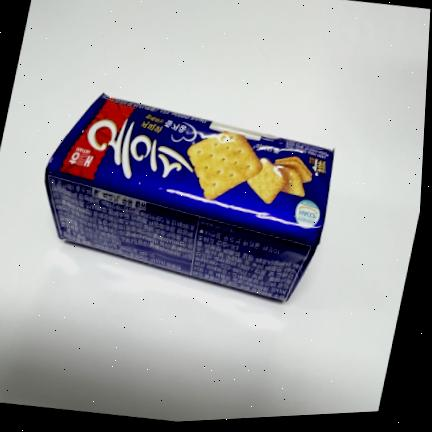cracker_ace: (44, 92, 335, 302)
